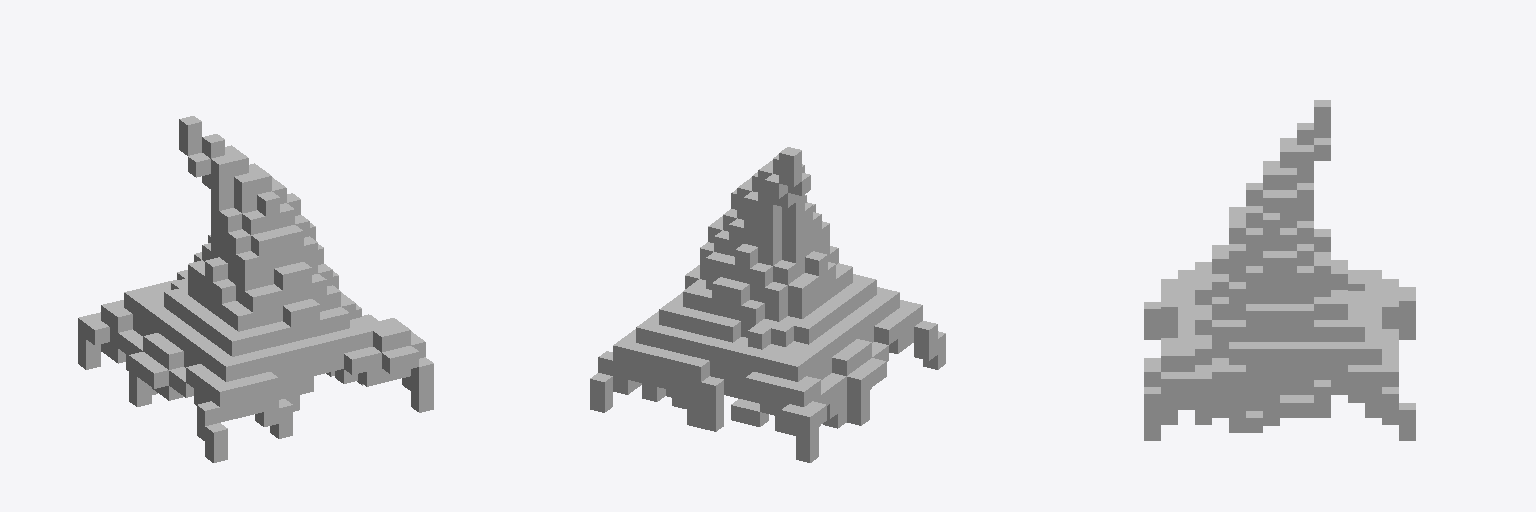
The model's file is witchhat.obj.
The picture shows the model from 3 angles: view 1: azimuth 30°, elevation 25°; view 2: azimuth 150°, elevation 25°; view 3: azimuth 270°, elevation 25°; orthographic projection.
Parts seen in each view (by area): view 1: witchhat; view 2: witchhat; view 3: witchhat.
Boxes of the visible parts, x1,y1,x2,y2 form: witchhat: [78, 116, 433, 462]; witchhat: [590, 147, 945, 462]; witchhat: [1144, 100, 1415, 440].
Bounding box in the file's own units: 15 × 17 × 16.